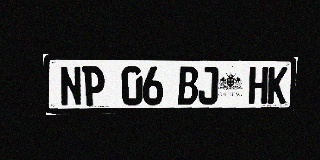0: (121, 66, 142, 105)
6: (143, 66, 163, 105)
B: (178, 67, 198, 105)
H: (248, 67, 268, 104)
J: (198, 67, 218, 104)
K: (267, 67, 287, 103)
N: (59, 66, 82, 106)
P: (82, 66, 105, 106)
